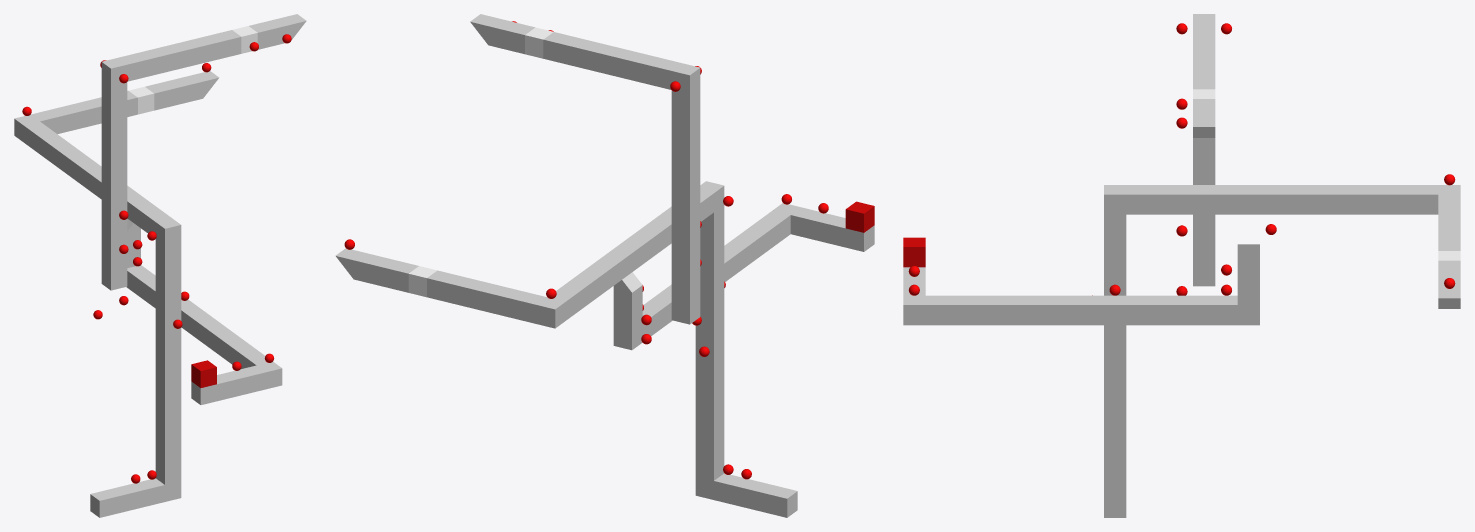
File: stage4.glb
The picture shows the model from 3 angles, left to right: view 1: azimuth 30°, elevation 25°; view 2: azimuth 150°, elevation 25°; view 3: azimuth 270°, elevation 25°; orthographic projection. The views are drawn at different scales.
Visible parts, largest first — view 1: cube__80_, cube__109_, corePart, cube__125_, cube__57_, cube__66_, cube__67_, cube__51_, cube__77_, cube__87_, cube__88_, cube__90_ (+44 smaller); view 2: corePart, cube__109_, cube__102_, cube__125_; view 3: cube__58_, cube__64_, cube__65_, cube__112_, cube__130_, cube__59_, cube__61_, cube__62_, cube__63_, cube__95_, cube__96_, cube__113_ (+19 smaller).
Part boxes in pixels (bbox=[...]): cube__80_: bbox=[155, 218, 181, 245]; cube__109_: bbox=[90, 490, 115, 517]; corePart: bbox=[191, 360, 216, 387]; cube__125_: bbox=[101, 58, 127, 85]; cube__57_: bbox=[155, 342, 181, 365]; cube__66_: bbox=[155, 359, 181, 382]; cube__67_: bbox=[155, 376, 181, 399]; cube__51_: bbox=[101, 164, 127, 187]; cube__77_: bbox=[101, 267, 127, 290]; cube__87_: bbox=[155, 239, 181, 262]; cube__88_: bbox=[155, 256, 181, 279]; cube__90_: bbox=[155, 273, 181, 296]; corePart: bbox=[845, 201, 874, 232]; cube__109_: bbox=[769, 486, 797, 517]; cube__102_: bbox=[537, 297, 565, 328]; cube__125_: bbox=[671, 63, 700, 94]; cube__58_: bbox=[1126, 295, 1148, 325]; cube__64_: bbox=[1059, 295, 1081, 325]; cube__65_: bbox=[1215, 295, 1237, 325]; cube__112_: bbox=[992, 295, 1014, 325]; cube__130_: bbox=[903, 295, 925, 325]; cube__59_: bbox=[1148, 295, 1170, 325]; cube__61_: bbox=[1193, 295, 1215, 325]; cube__62_: bbox=[1104, 295, 1126, 325]; cube__63_: bbox=[1081, 295, 1103, 325]; cube__95_: bbox=[1037, 295, 1059, 325]; cube__96_: bbox=[1014, 295, 1036, 325]; cube__113_: bbox=[970, 295, 992, 325].
Bounding box in the file's own units: 16 × 24 × 25.
